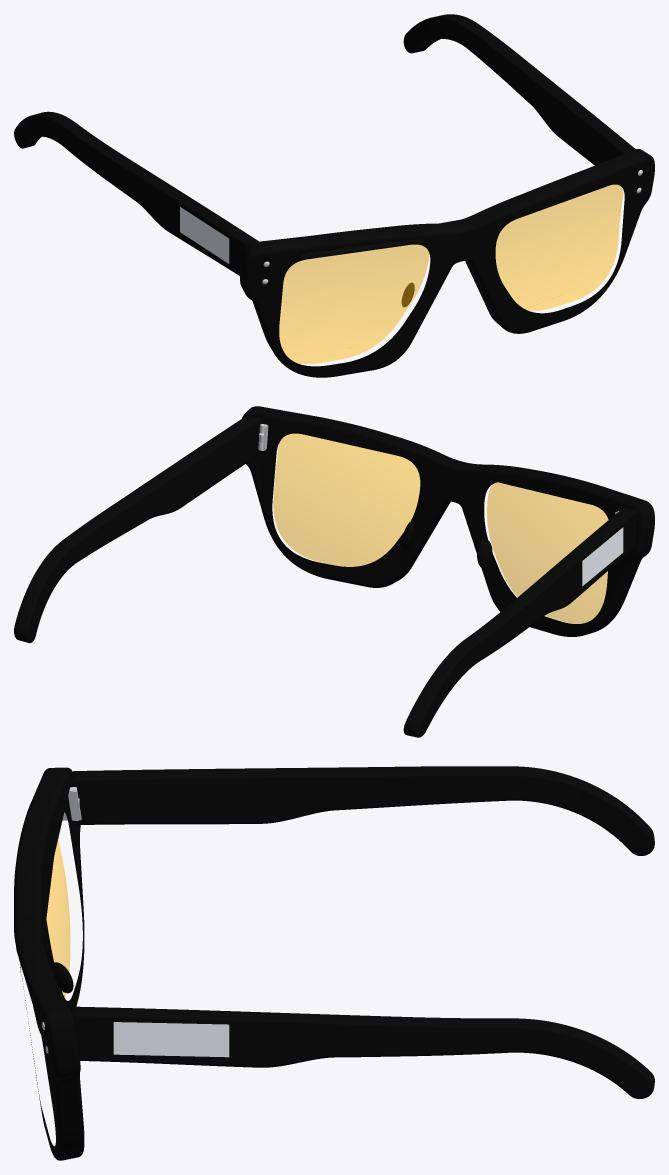
The model's file is sulfurVision.glb.
3 views of the same model, one above another, from view 1: azimuth 30°, elevation 25°; view 2: azimuth 150°, elevation 25°; view 3: azimuth 270°, elevation 25° (orthographic). The views are drawn at different scales.
Parts seen in each view (by area): view 1: frameFront, temple (×2), lensL, lensR, logo; view 2: frameFront, temple (×2), lensR, lensL, logo; view 3: temple (×2), frameFront, logo, lensL.
Boxes of the visible parts, left/top/right/bottom form: frameFront: left=239, top=149, right=654, bottom=377; temple (×2): left=14, top=14, right=634, bottom=275; lensL: left=279, top=244, right=429, bottom=363; lensR: left=495, top=184, right=623, bottom=310; logo: left=180, top=207, right=229, bottom=263; frameFront: left=242, top=406, right=654, bottom=636; temple (×2): left=14, top=415, right=637, bottom=737; lensR: left=273, top=433, right=420, bottom=566; lensL: left=487, top=482, right=608, bottom=623; logo: left=582, top=527, right=623, bottom=585; temple (×2): left=69, top=766, right=654, bottom=1098; frameFront: left=14, top=767, right=84, bottom=1160; logo: left=113, top=1022, right=229, bottom=1057; lensL: left=46, top=839, right=70, bottom=997.
Bounding box in the file's own units: 14.72 × 5.06 × 15.27.
